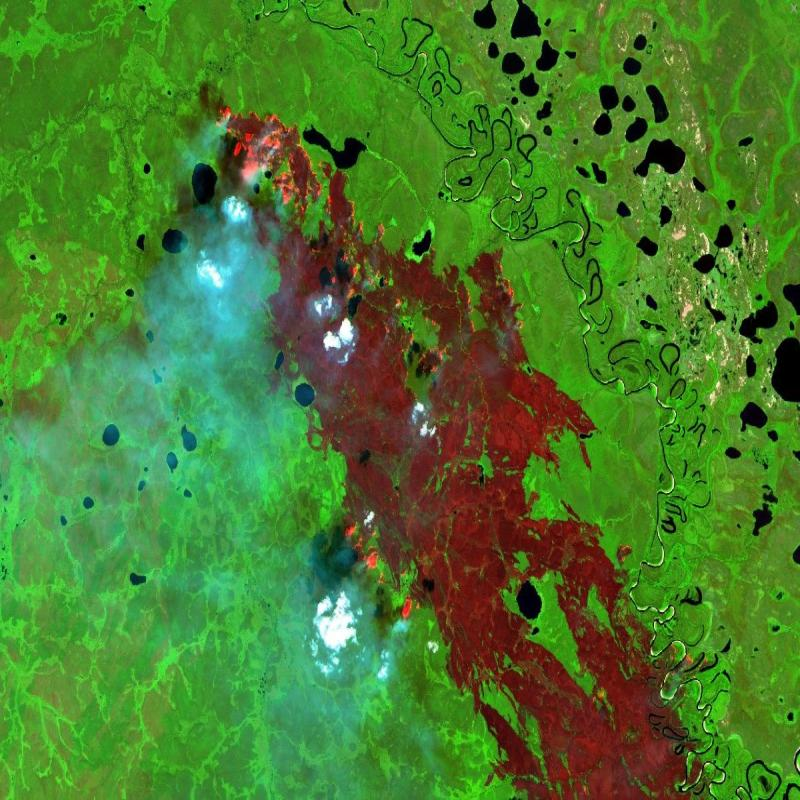fire: (212, 93, 538, 348), (339, 512, 425, 634)
